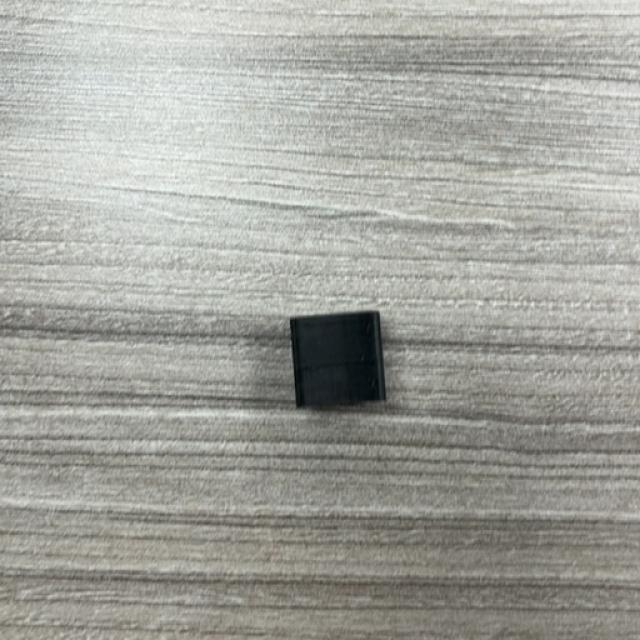Negro: (289, 310, 386, 410)
